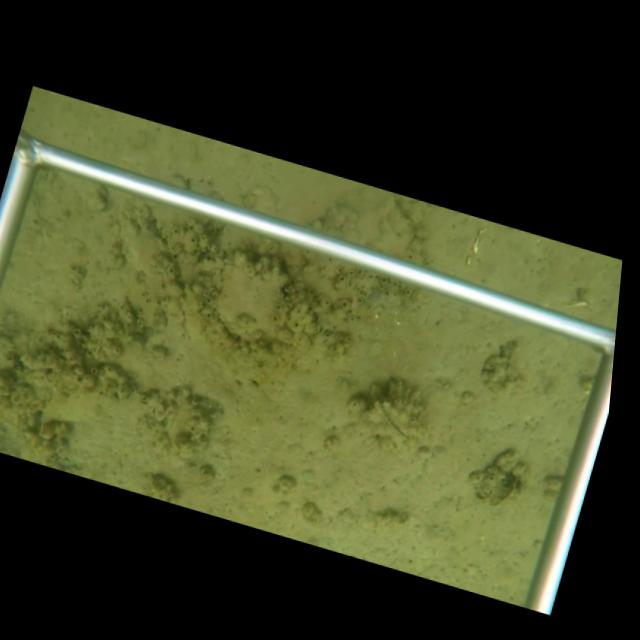Oyster-Closed: (207, 258, 290, 345), (373, 400, 413, 441)
